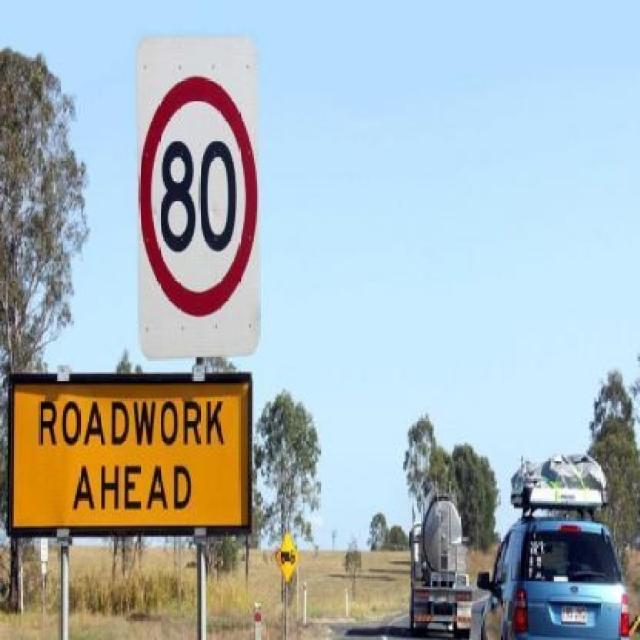forb_speed_over_80: (138, 75, 257, 315)
